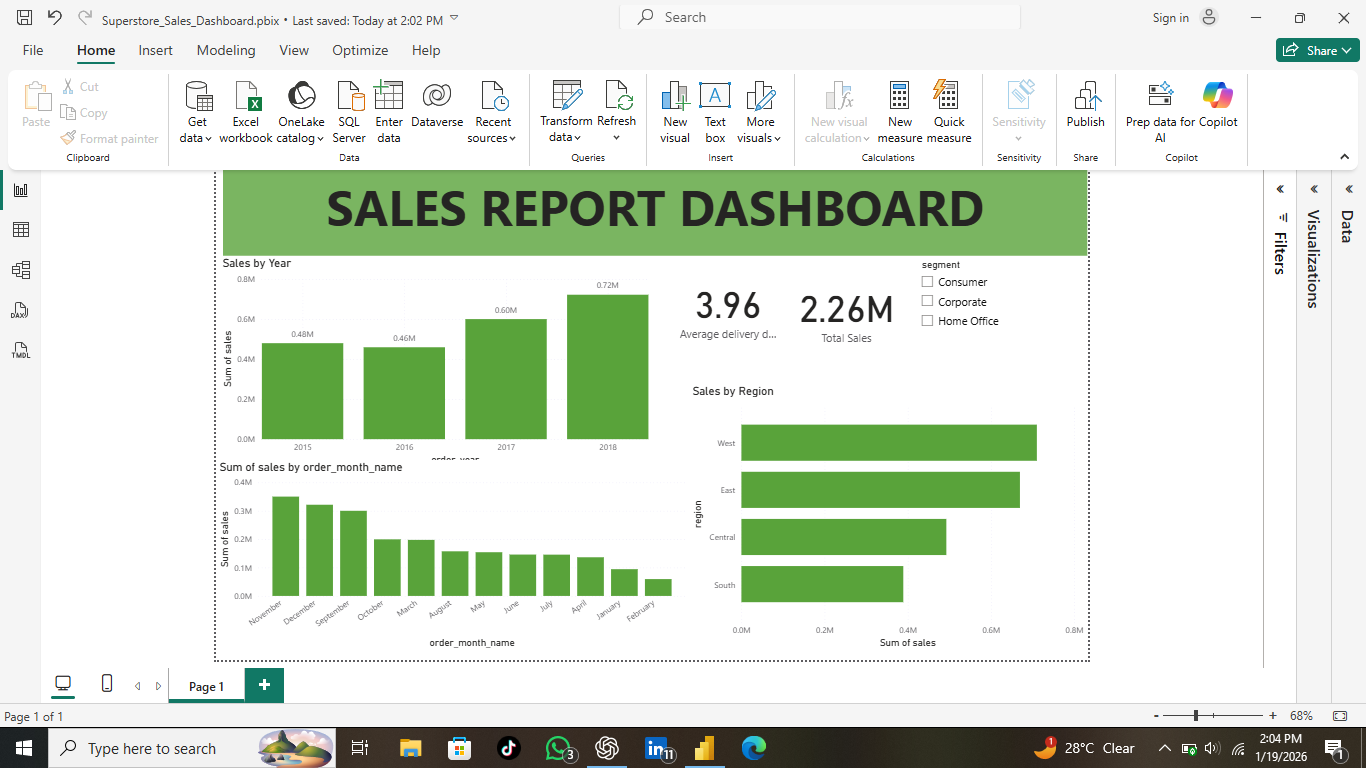

This screenshot's page, from the dashboard's own definition file:
{"tool":"powerbi","page":{"name":"Page 1","canvas":[1280,720],"ordinal":0},"visuals":[{"type":"textbox","box":[9.8,0,1270.2,125.6],"z":0},{"type":"card","title":"Total Sales","fields":{"Values":["Sum(cleaned_sales_data.sales)"]},"box":[842.2,131.5,168.8,151.2],"z":1000},{"type":"clusteredColumnChart","title":"Sales by Year","fields":{"Category":["cleaned_sales_data.order_year"],"Y":["Sum(cleaned_sales_data.sales)"]},"box":[3.9,125.6,636.1,312.1],"z":2000},{"type":"barChart","title":"Sales by Region","fields":{"Category":["cleaned_sales_data.region"],"Y":["Sum(cleaned_sales_data.sales)"]},"box":[695,314.1,585,392.6],"z":3000},{"type":"card","fields":{"Values":["Avg(cleaned_sales_data.delivery_days)"]},"box":[675.3,129.6,153.1,145.3],"z":4000},{"type":"slicer","fields":{"Values":["cleaned_sales_data.segment"]},"box":[1024.8,125.6,255.2,157.1],"z":5000},{"type":"clusteredColumnChart","fields":{"Category":["cleaned_sales_data.order_month_name"],"Y":["Sum(cleaned_sales_data.sales)"]},"box":[0,426,695,280.7],"z":6000}]}

Visuals, with their boxes on the page's 1280x720 design canvas (x1, y1, x2, y2). These are canvas units, not pixel positions in the 1366x768 screenshot, which may show the page scaled, cropped or inside an application window:
textbox: box(10, 0, 1280, 126)
"Total Sales" card: box(842, 132, 1011, 283)
"Sales by Year" clusteredColumnChart: box(4, 126, 640, 438)
"Sales by Region" barChart: box(695, 314, 1280, 707)
card - Avg(cleaned_sales_data.delivery_days): box(675, 130, 828, 275)
slicer - cleaned_sales_data.segment: box(1025, 126, 1280, 283)
clusteredColumnChart - cleaned_sales_data.order_month_name x Sum(cleaned_sales_data.sales): box(0, 426, 695, 707)
